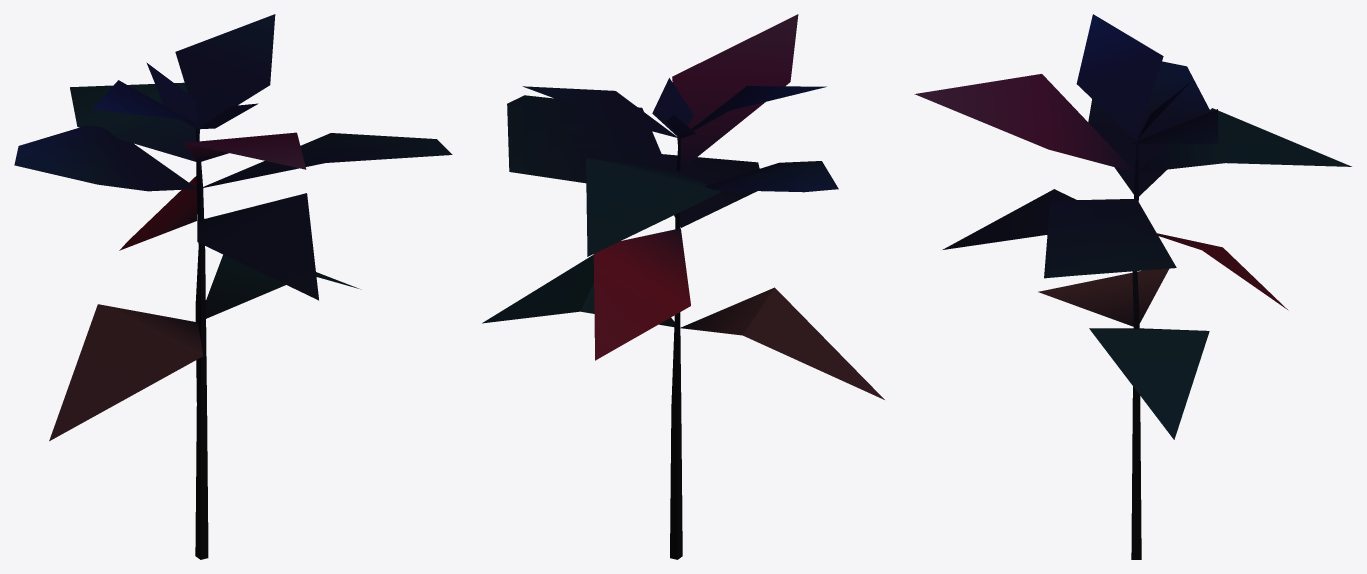
The model's file is Nettle A atlas.fbx.
3 views of the same model, side by side, from view 1: azimuth 30°, elevation 25°; view 2: azimuth 150°, elevation 25°; view 3: azimuth 270°, elevation 25° (orthographic). The views are drawn at different scales.
Parts seen in each view (by area): view 1: Mesh; view 2: Mesh; view 3: Mesh.
Part boxes in pixels (x1,y1,x2,y2): Mesh: [14, 14, 452, 559]; Mesh: [482, 14, 884, 559]; Mesh: [914, 14, 1351, 559].
Size of the model in its own units: 83.28 by 102 by 84.2.
